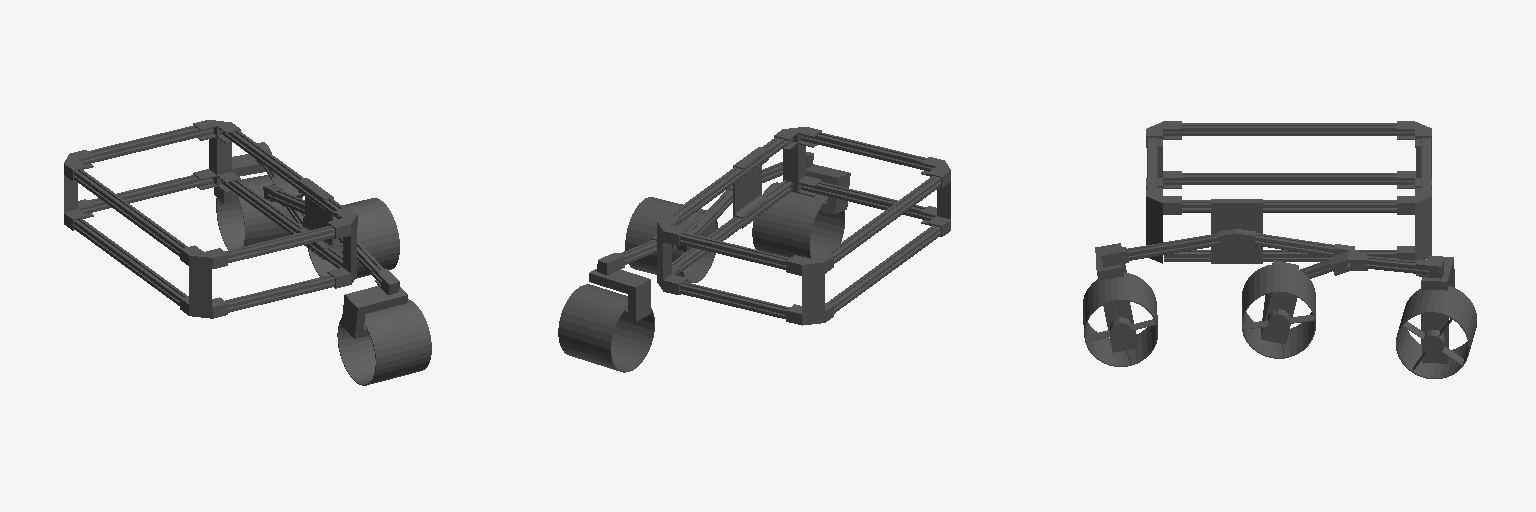
File: car.obj
3 views of the same model, side by side, from view 1: azimuth 30°, elevation 25°; view 2: azimuth 150°, elevation 25°; view 3: azimuth 270°, elevation 25° (orthographic).
Bounding box in the file's own units: 441 × 249 × 604.